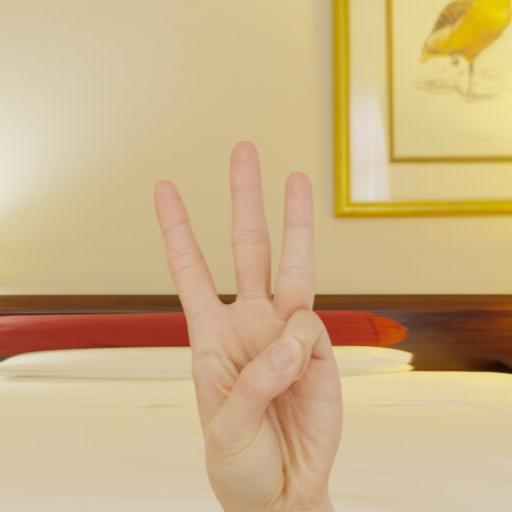W: (142, 134, 366, 502)
